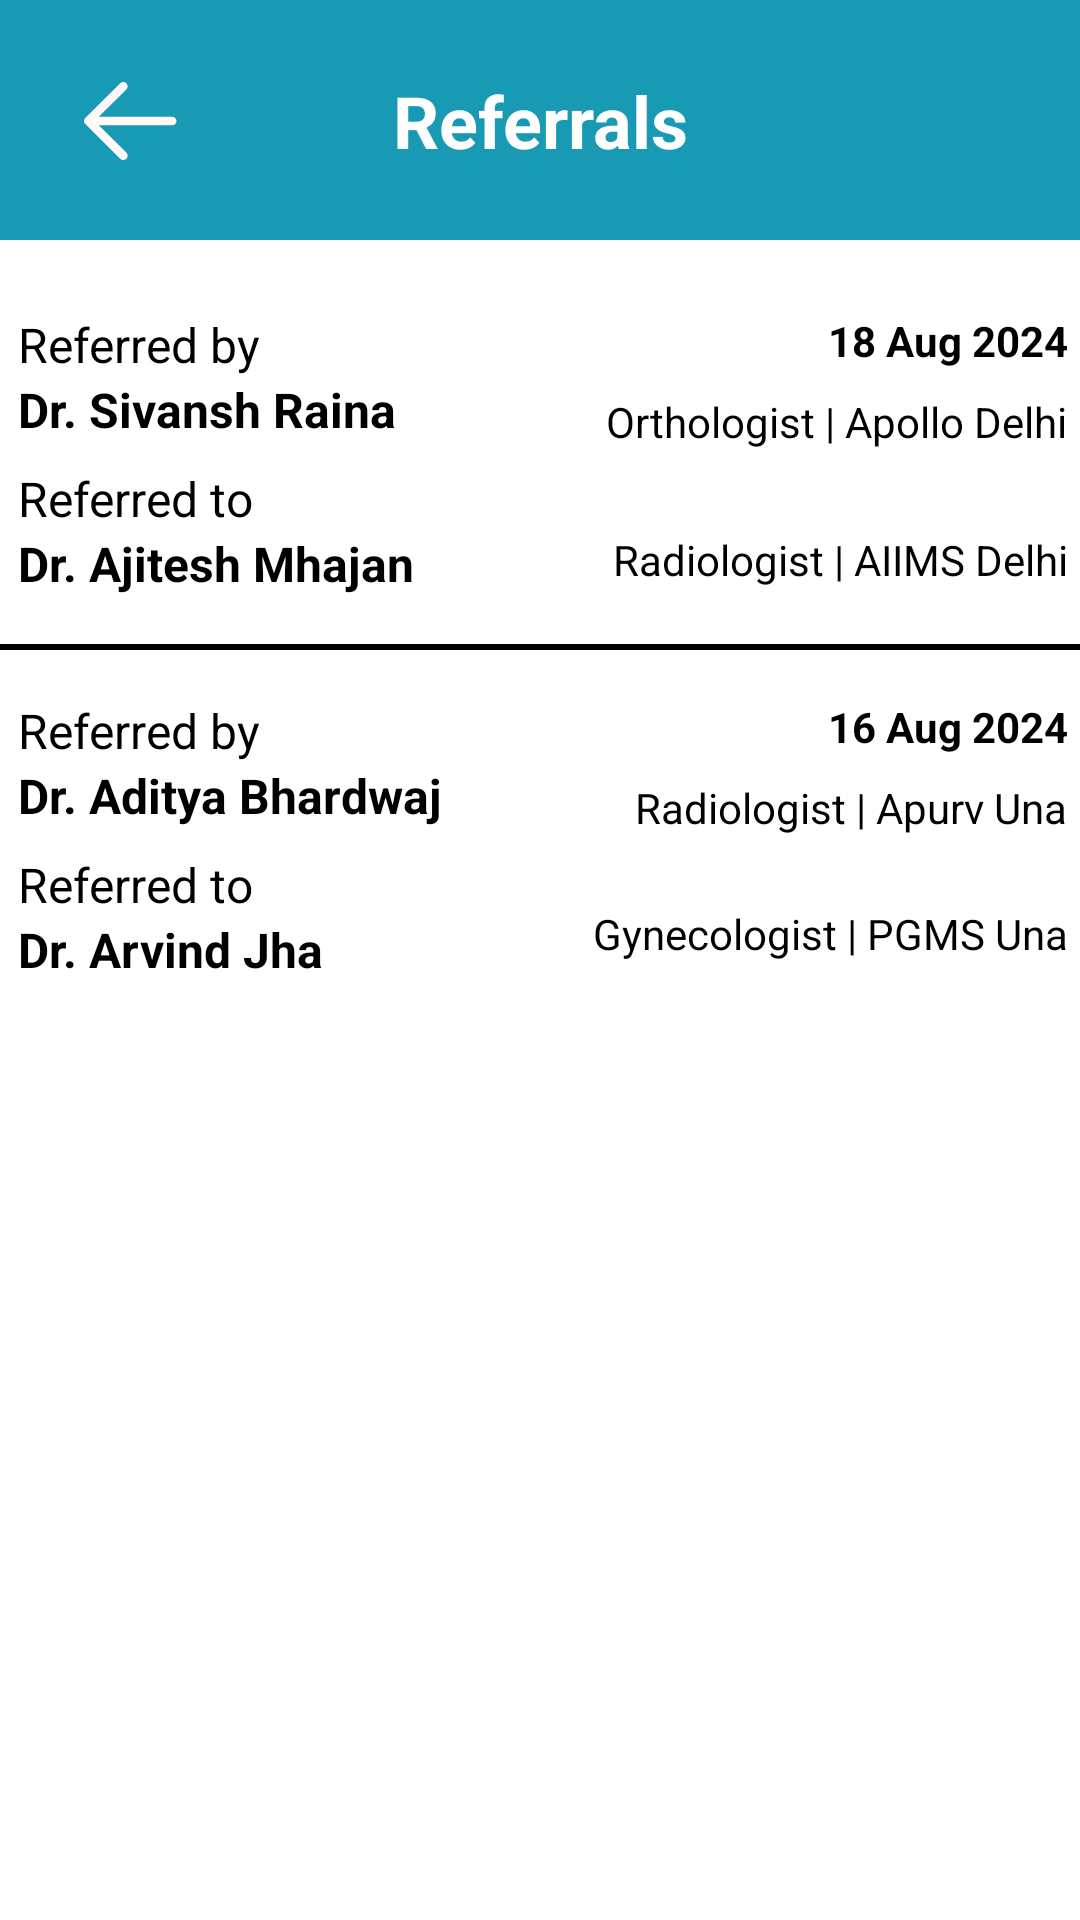

Where icons sit on this 1080×1920 app screen, as (x1, y1, x2, y2):
arrow: (84, 82, 177, 160)
